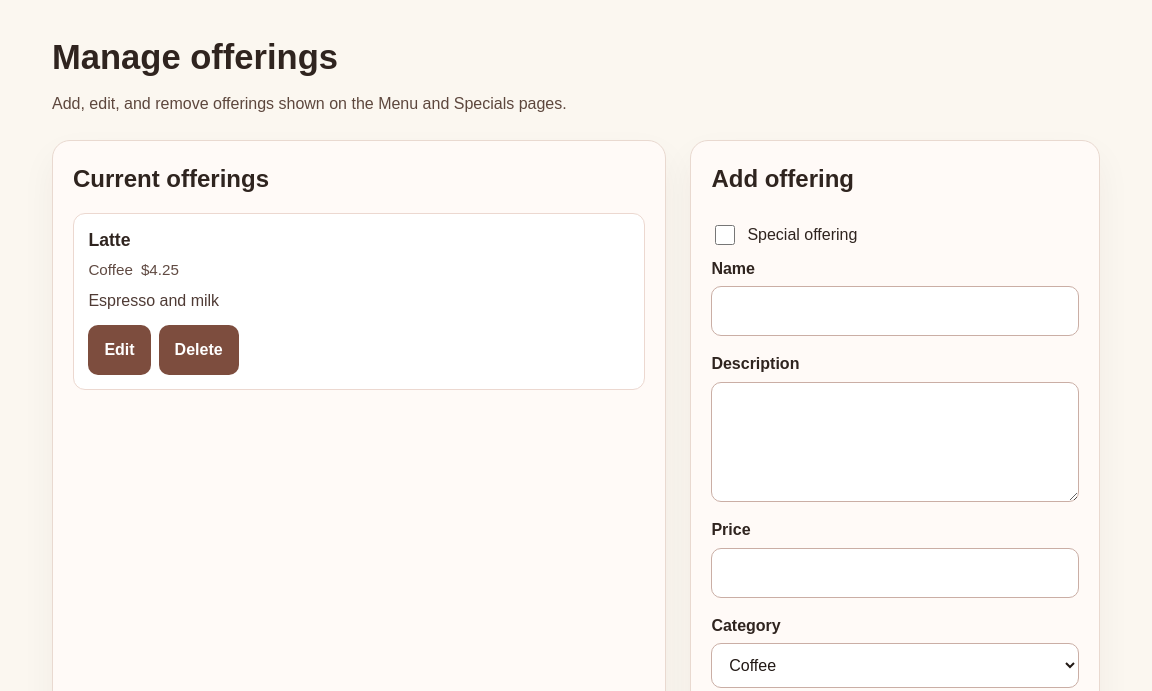
Test case: requires confirmation before deleting an offering
The image size is (1152, 691).
Click the button with aria-label "Delete Latte" at (199, 350), box [159,325,239,375]
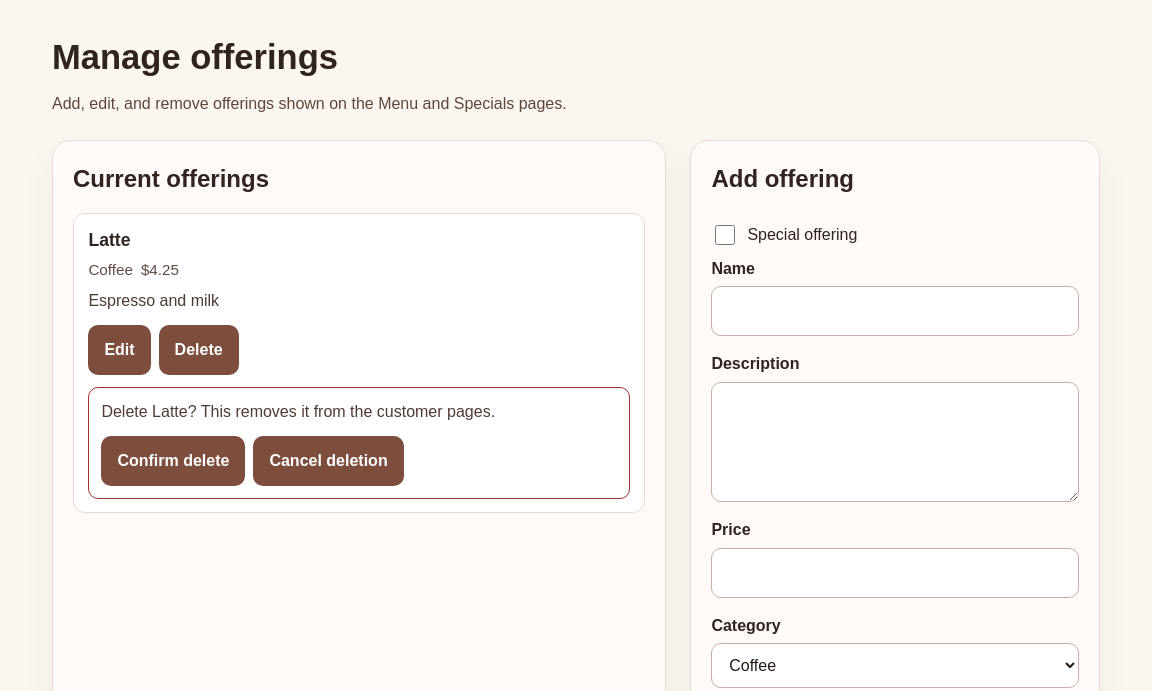
Expected: the element named "Confirm deletion of Latte" is shown, [88,387,630,499]
Click the button "Confirm delete" at (173, 461), box [101,436,245,486]
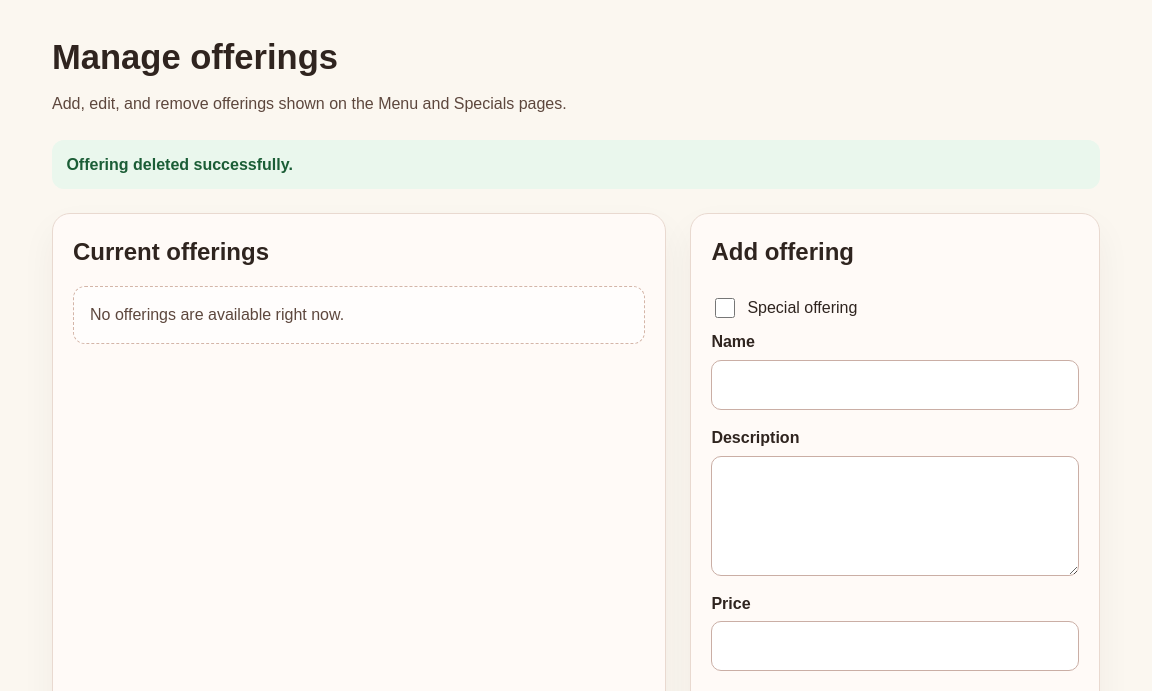
Expected: the text "Offering deleted successfully." is shown, [52,140,1100,189]
Expected: the text "No offerings are available right now." is shown, [73,286,645,344]
